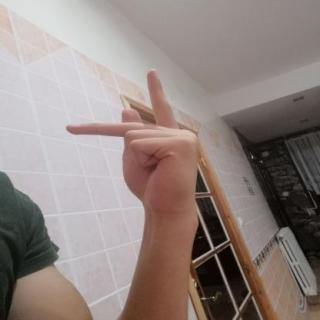DHAA: (56, 61, 212, 220)
